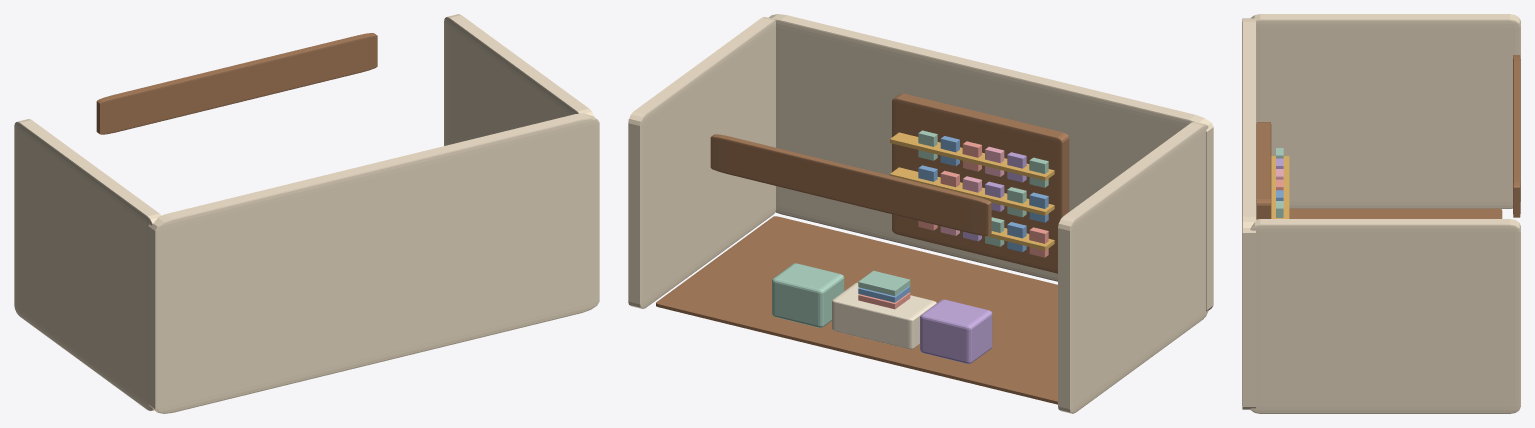
Rendered from book_burrow.glb.
The picture shows the model from 3 angles, left to right: view 1: azimuth 30°, elevation 25°; view 2: azimuth 150°, elevation 25°; view 3: azimuth 270°, elevation 25°; orthographic projection. The views are drawn at different scales.
Parts seen in each view (by area): view 1: book_burrow_back, book_burrow_left, book_burrow_sign, book_burrow_right; view 2: book_burrow_back, book_burrow_left, book_burrow_floor, book_burrow_right, book_panel, book_burrow_sign, Book_Table, Reading_Chair_1, Reading_Chair_2, book_shelf_3.0, book_shelf_2.1, Book_Stack_3 (+1 smaller); view 3: book_burrow_right, book_burrow_left, book_burrow_back, book_burrow_floor, book_panel, book_burrow_sign, book_shelf_3.0.
Part boxes in pixels (x1,y1,x2,y2): book_burrow_back: (148,113,599,413); book_burrow_left: (14,119,160,410); book_burrow_sign: (96,33,377,134); book_burrow_right: (444,14,594,145); book_burrow_back: (769,14,1213,311); book_burrow_left: (1058,122,1208,413); book_burrow_floor: (656,216,1057,404); book_burrow_right: (628,17,775,308); book_panel: (892,93,1069,273); book_burrow_sign: (710,134,991,235); Book_Table: (832,282,936,349); Reading_Chair_1: (920,299,992,363); Reading_Chair_2: (772,263,844,327); book_shelf_3.0: (890,132,1054,180); book_shelf_2.1: (890,167,1054,215); Book_Stack_3: (858,270,910,295); book_burrow_right: (1250,219,1520,413); book_burrow_left: (1251,14,1520,208); book_burrow_back: (1242,18,1256,409); book_burrow_floor: (1289,208,1502,218); book_panel: (1256,122,1271,219); book_burrow_sign: (1513,55,1520,217); book_shelf_3.0: (1271,156,1289,218).
Size of the model in its own units: 12 by 5 by 6.67.
